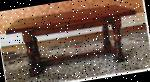Mesa: (4, 0, 146, 81)
